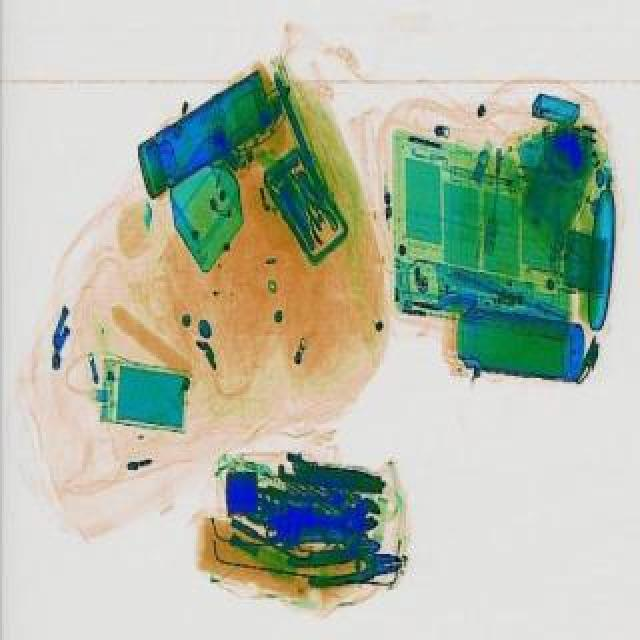scissors: (282, 492, 378, 524)
wrench: (304, 542, 400, 586), (286, 180, 344, 244)
